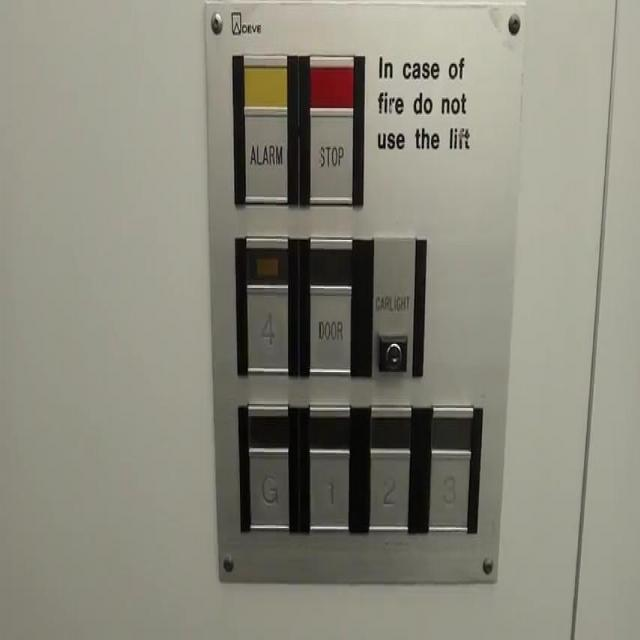1: (306, 441, 352, 536)
2: (366, 440, 412, 535)
3: (425, 440, 472, 540)
4: (243, 275, 291, 380)
G: (245, 440, 292, 535)
keyhole: (374, 329, 410, 375)
text: (241, 103, 290, 208), (306, 101, 354, 207), (306, 277, 354, 379)
